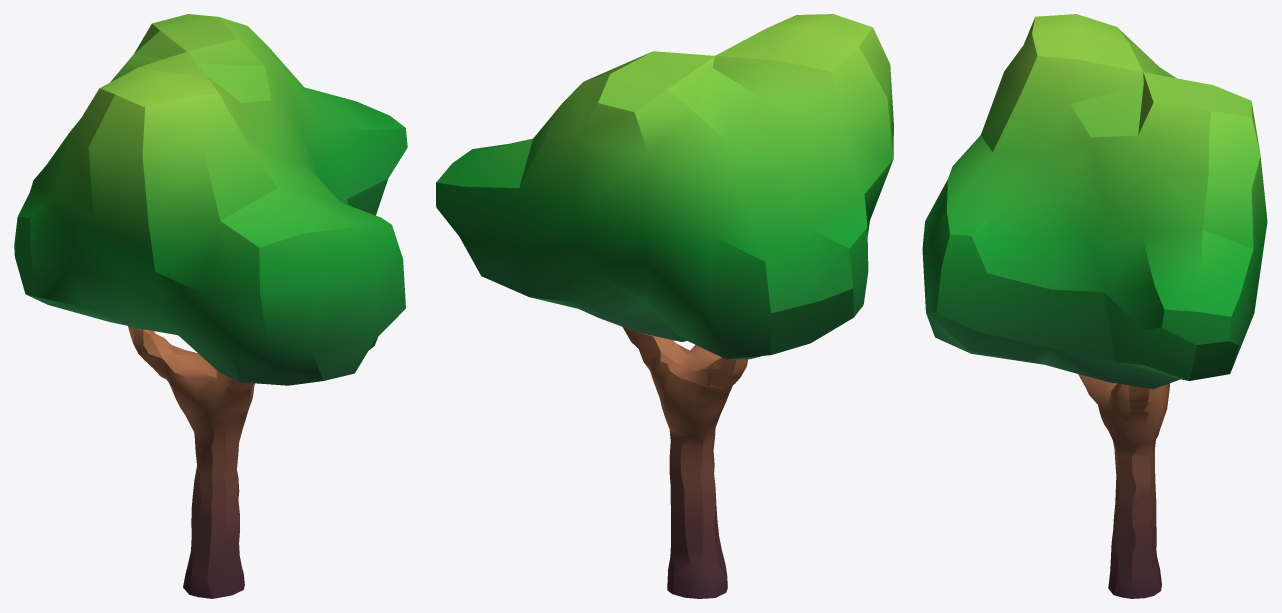
The model's file is Tree2.fbx.
3 renders of one model, left to right at view 1: azimuth 30°, elevation 25°; view 2: azimuth 150°, elevation 25°; view 3: azimuth 270°, elevation 25°, orthographic. The views are drawn at different scales.
Parts seen in each view (by area): view 1: Tree2; view 2: Tree2; view 3: Tree2.
Part boxes in pixels (bbox=[...]): Tree2: bbox=[14, 14, 407, 598]; Tree2: bbox=[436, 14, 893, 598]; Tree2: bbox=[922, 14, 1267, 598].
Size of the model in its own units: 7.35 by 10.01 by 6.
